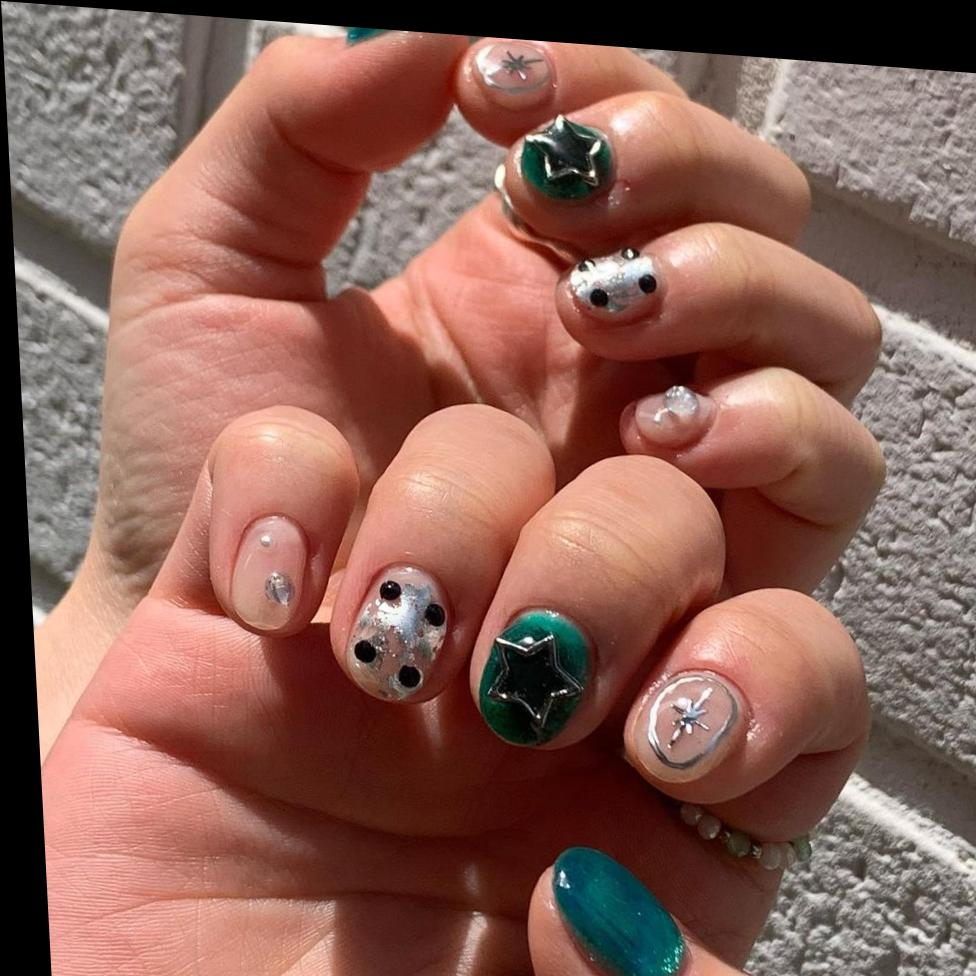nail: (469, 599, 598, 753), (546, 840, 688, 976), (337, 556, 456, 705), (635, 662, 745, 782), (223, 507, 313, 636), (513, 108, 615, 205), (562, 240, 660, 324), (467, 35, 557, 111), (629, 378, 716, 451), (342, 25, 458, 51)
